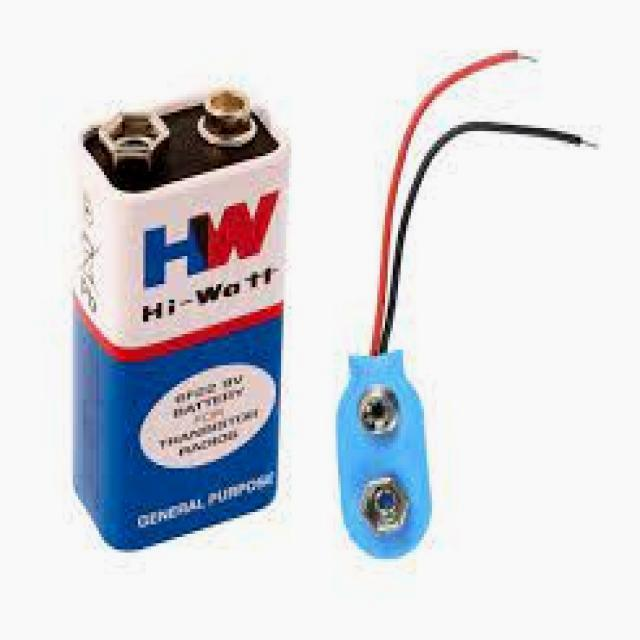battery: (71, 85, 293, 550)
